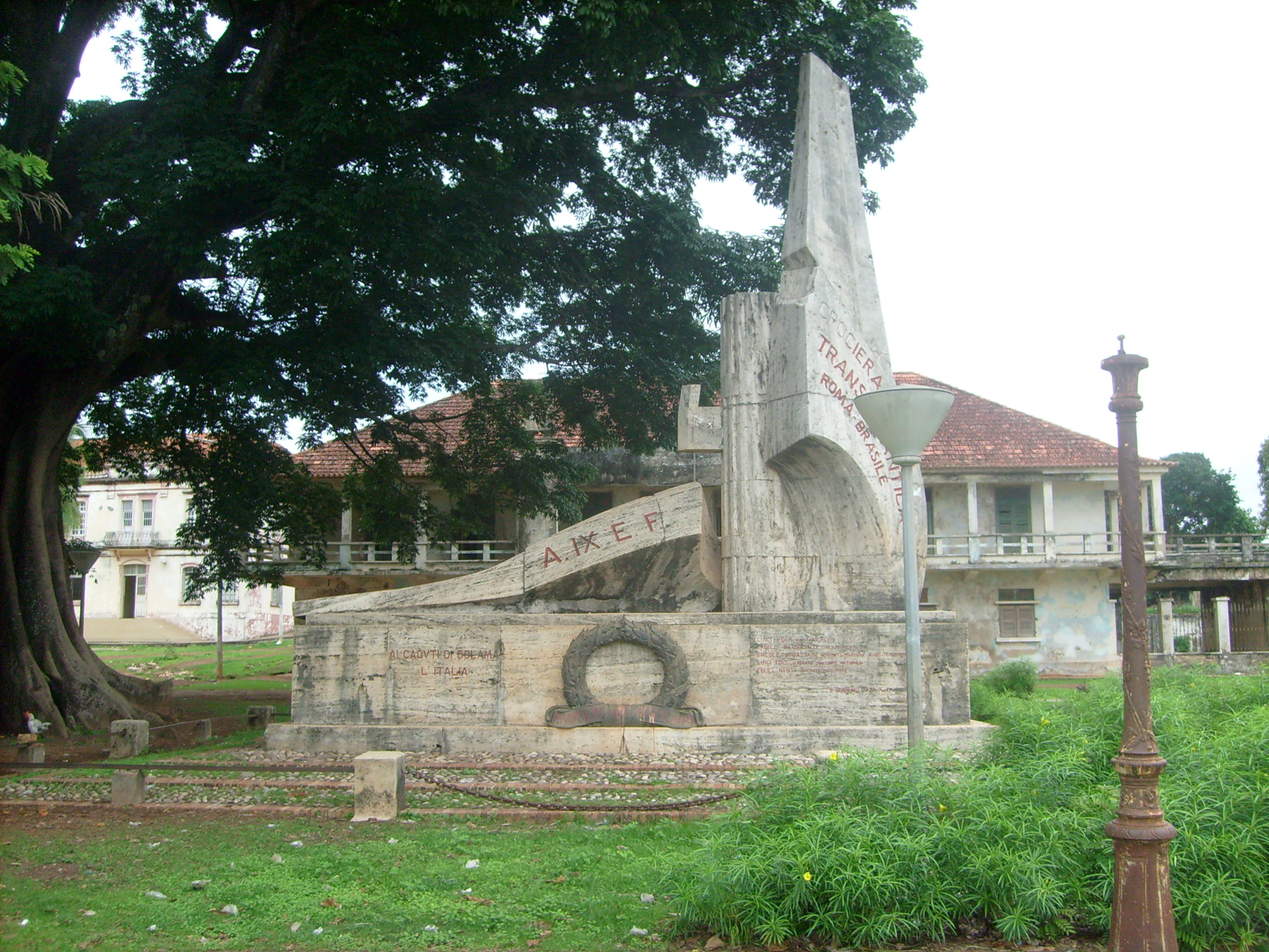fachada: (301, 373, 1171, 661), (79, 428, 304, 645)
poste: (1089, 344, 1221, 947)
